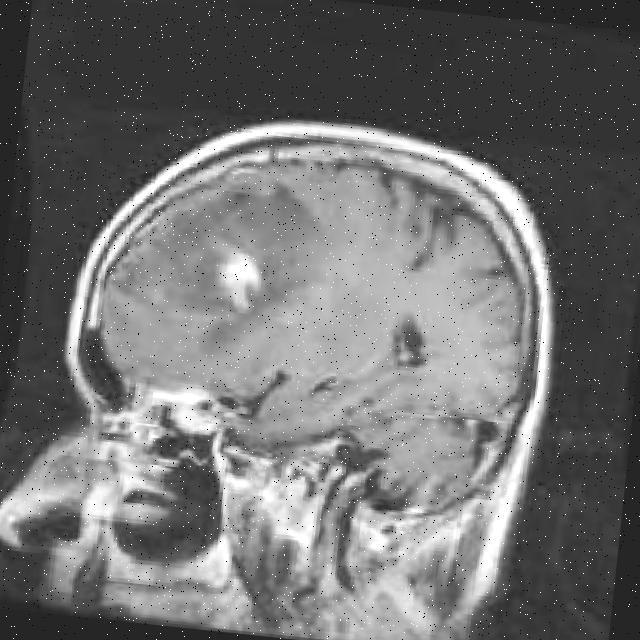MCI: (170, 182, 316, 390)
